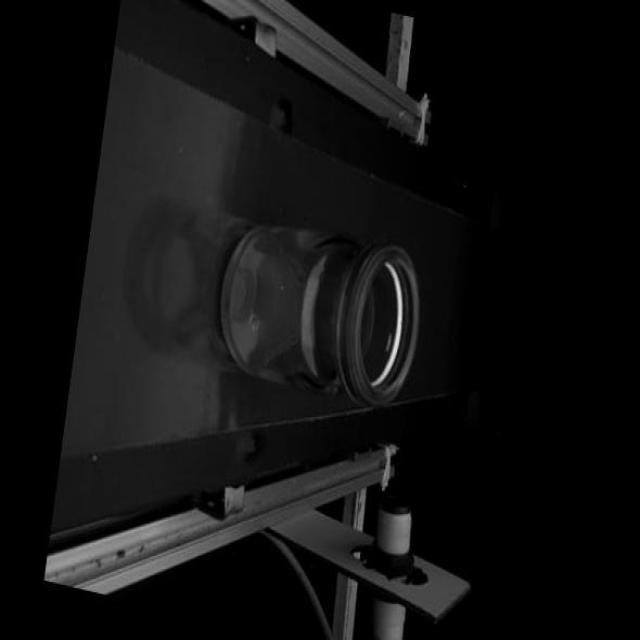defect: (317, 263, 325, 284)
glass: (207, 201, 431, 419)
